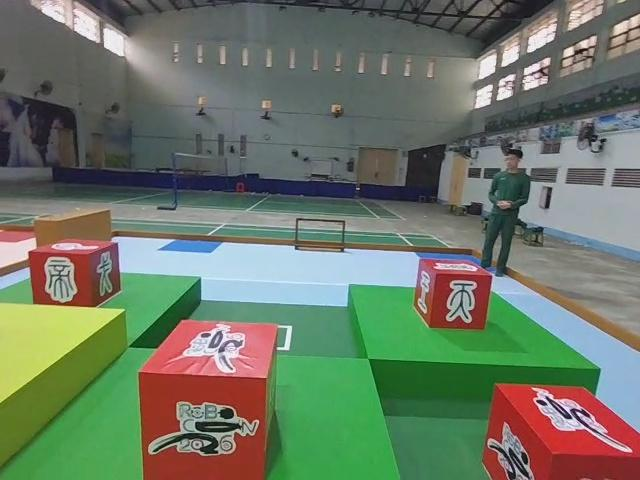R1: (135, 316, 281, 480), (479, 381, 640, 480)
R2 Fake: (27, 237, 122, 309), (412, 256, 494, 334)
